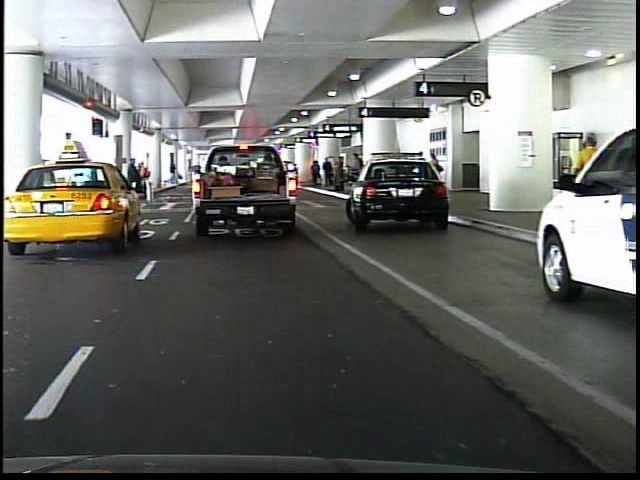person: (566, 126, 612, 249), (117, 155, 142, 217), (193, 149, 216, 202)
